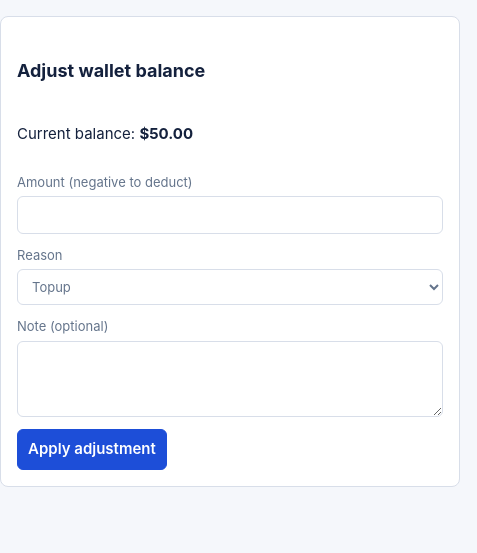
Test: WalletAdjustmentForm › sends the mutation with an idempotency key and reports success
The image size is (477, 553).
Step 1. Type "25" into the number field labelled "Amount (negative to deduct)" → coordinates (230, 215), box [17,196,443,234]
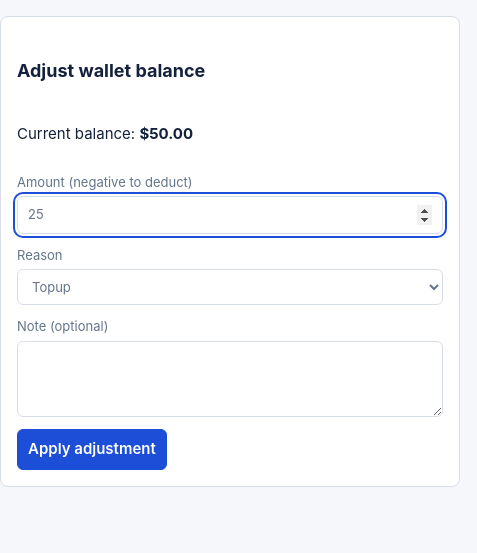
Step 2. Select "Topup" in the dropdown labelled "Reason" → coordinates (230, 287), box [17,269,443,305]
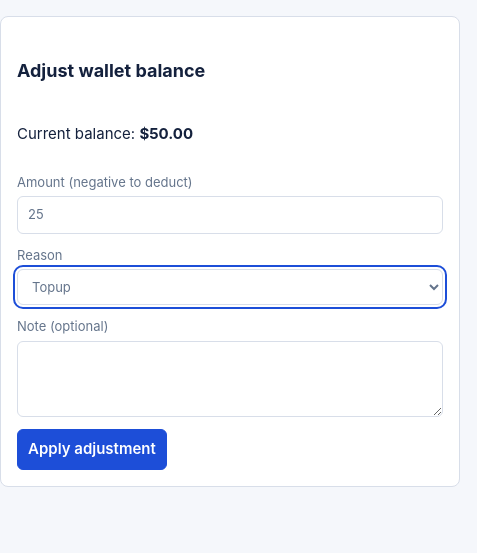
Step 3. Click the button "Apply adjustment" → coordinates (92, 449), box [17,429,167,470]
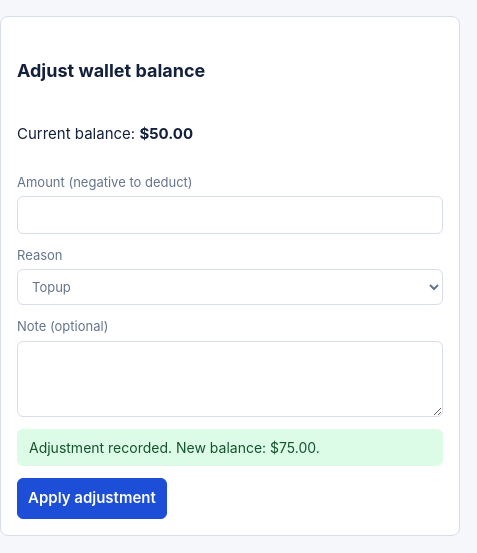
Expected: the message shows "New balance: $75.00", [29,439,320,456]
